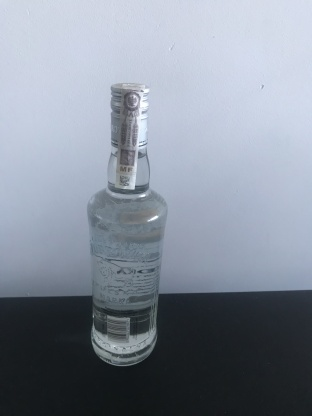nakretka: (107, 78, 152, 151)
